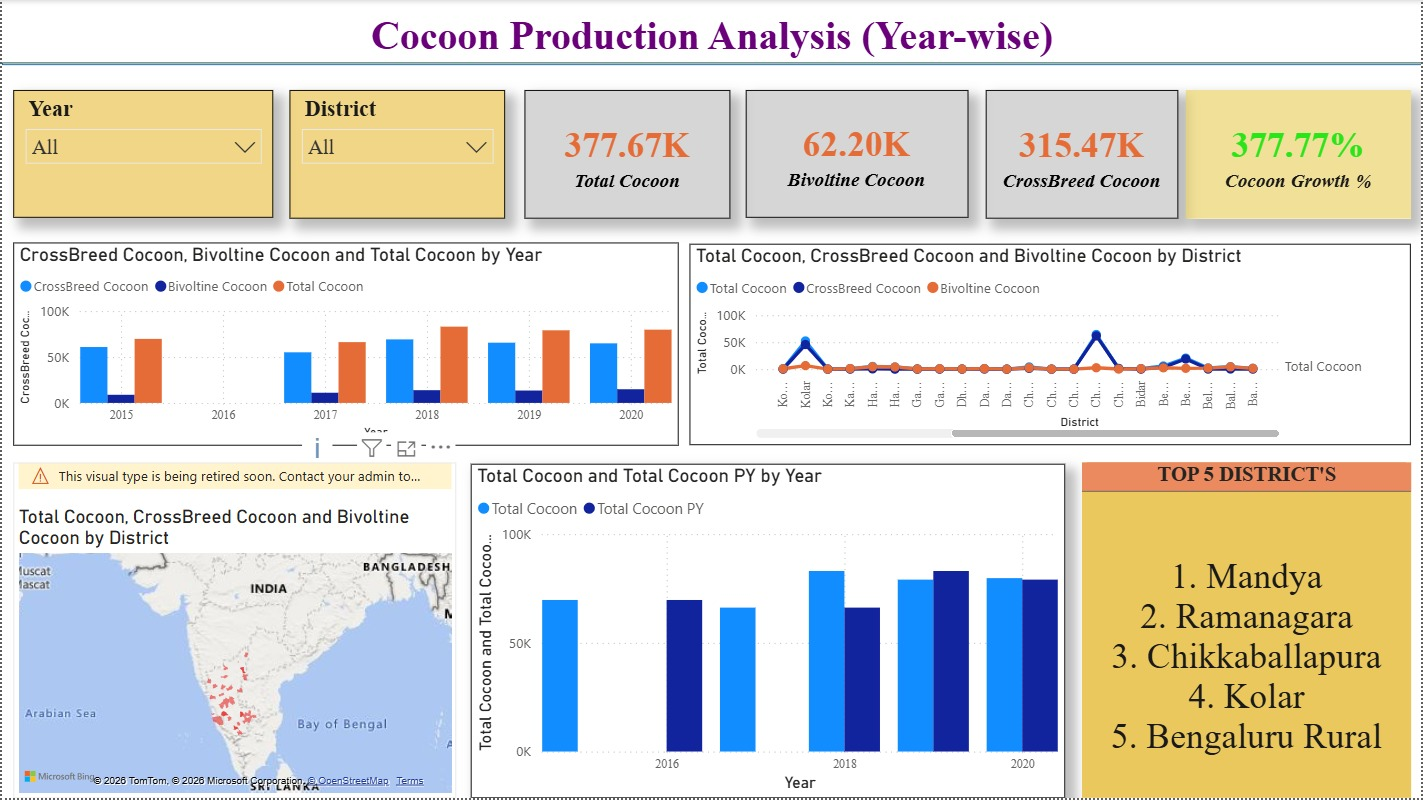

What the dashboard file says about the page in this screenshot:
{"tool":"powerbi","page":{"name":"Page 3","canvas":[1280,720],"ordinal":2},"visuals":[{"type":"slicer","fields":{"Values":["YearTable.Value"]},"box":[9.8,80.7,234.8,114.9],"z":0},{"type":"card","fields":{"Values":["Cocoon_Data.Total Cocoon"]},"box":[470.8,80.7,185.9,116.2],"z":1000},{"type":"card","fields":{"Values":["Cocoon_Data.CrossBreed Cocoon"]},"box":[886.6,80.7,173.6,116.2],"z":2000},{"type":"card","fields":{"Values":["Cocoon_Data.Bivoltine Cocoon"]},"box":[670.1,80.7,200.5,114.9],"z":3000},{"type":"card","fields":{"Values":["Cocoon_Data.Cocoon Growth %"]},"box":[1067.5,80.7,203,116.2],"z":4000},{"type":"clusteredColumnChart","fields":{"Category":["Cocoon_Data.Year"],"Y":["Cocoon_Data.CrossBreed Cocoon","Cocoon_Data.Bivoltine Cocoon","Cocoon_Data.Total Cocoon"]},"box":[10,218.6,600,182.9],"z":5000},{"type":"filledMap","fields":{"Category":["Cocoon_Data.District"]},"box":[10,417.1,400,302.9],"z":6000},{"type":"lineChart","fields":{"Category":["Cocoon_Data.District"],"Y":["Cocoon_Data.Total Cocoon","Cocoon_Data.CrossBreed Cocoon","Cocoon_Data.Bivoltine Cocoon"]},"box":[620,220,650,181.4],"z":7000},{"type":"clusteredColumnChart","fields":{"Category":["YearTable.Year"],"Y":["Cocoon_Data.Total Cocoon","Cocoon_Data.Total Cocoon PY"]},"box":[422.9,418.6,535.7,301.4],"z":8000},{"type":"shape","title":"Cocoon Production Analysis (Year-wise)","box":[0,11.6,1280.3,47.8],"z":9000},{"type":"card","title":"TOP 5 DISTRICT''S ","fields":{"Values":["Cocoon_Data.Top 5 Districts (Ranked)"]},"box":[973.4,417,297.1,302],"z":10000},{"type":"slicer","fields":{"Values":["Cocoon_Data.District"]},"box":[259.2,80.7,194.4,116.2],"z":10001}]}

Visuals, with their boxes in screenshot pixels (x1, y1, x2, y2), scaled from the page's 1280x720 canvas onto the 1423x801 screenshot:
slicer - YearTable.Value: [11, 90, 272, 218]
card - Cocoon_Data.Total Cocoon: [523, 90, 730, 219]
card - Cocoon_Data.CrossBreed Cocoon: [986, 90, 1179, 219]
card - Cocoon_Data.Bivoltine Cocoon: [745, 90, 968, 218]
card - Cocoon_Data.Cocoon Growth %: [1187, 90, 1412, 219]
clusteredColumnChart - Cocoon_Data.Year x Cocoon_Data.CrossBreed Cocoon: [11, 243, 678, 447]
filledMap - Cocoon_Data.District: [11, 464, 456, 800]
lineChart - Cocoon_Data.District x Cocoon_Data.Total Cocoon: [689, 245, 1412, 447]
clusteredColumnChart - YearTable.Year x Cocoon_Data.Total Cocoon: [470, 466, 1066, 800]
"Cocoon Production Analysis (Year-wise)" shape: [0, 13, 1422, 66]
"TOP 5 DISTRICT''S " card: [1082, 464, 1412, 800]
slicer - Cocoon_Data.District: [288, 90, 504, 219]
